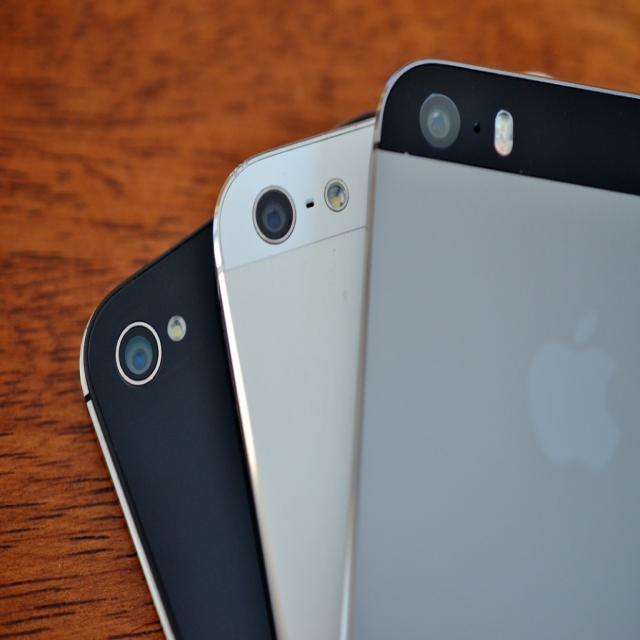Mobile-phone: (340, 66, 640, 639), (212, 109, 377, 639), (75, 216, 275, 640)
